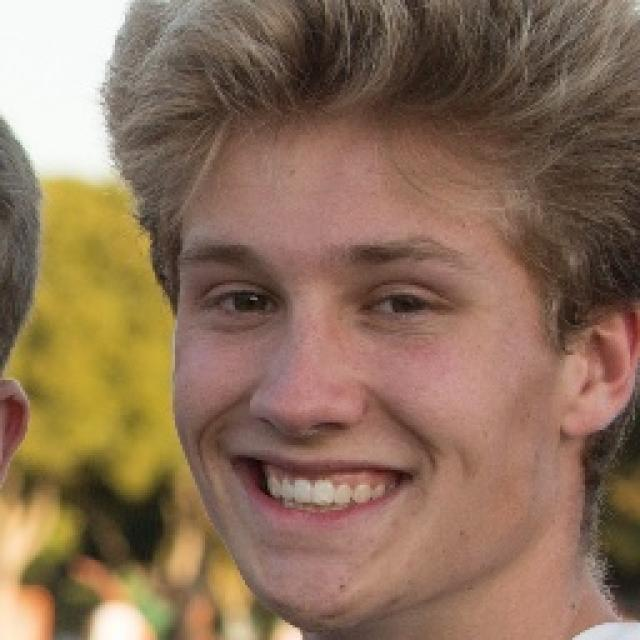earlobe: (558, 391, 600, 442)
eye: (358, 286, 449, 320), (201, 287, 282, 319)
nose: (255, 411, 363, 455)
wholeear: (559, 281, 639, 441)
